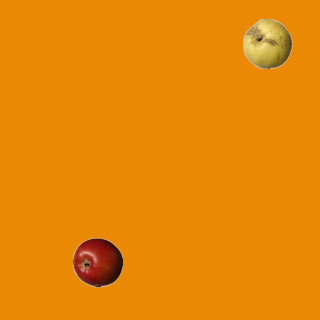Apple Braeburn: (72, 237, 122, 287)
Apple Golden 1: (242, 18, 292, 68)
